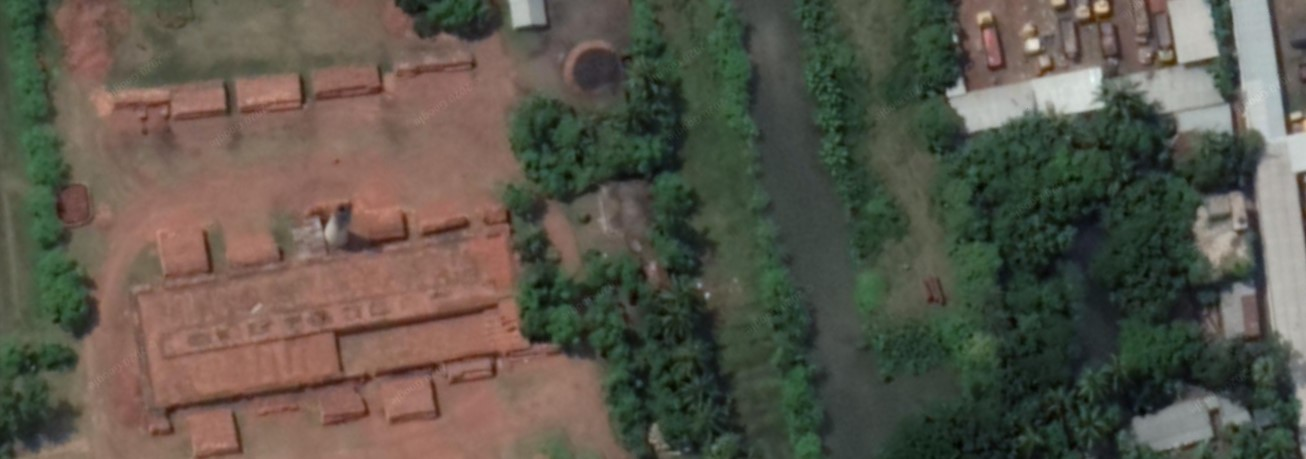kiln: (122, 189, 526, 424)
